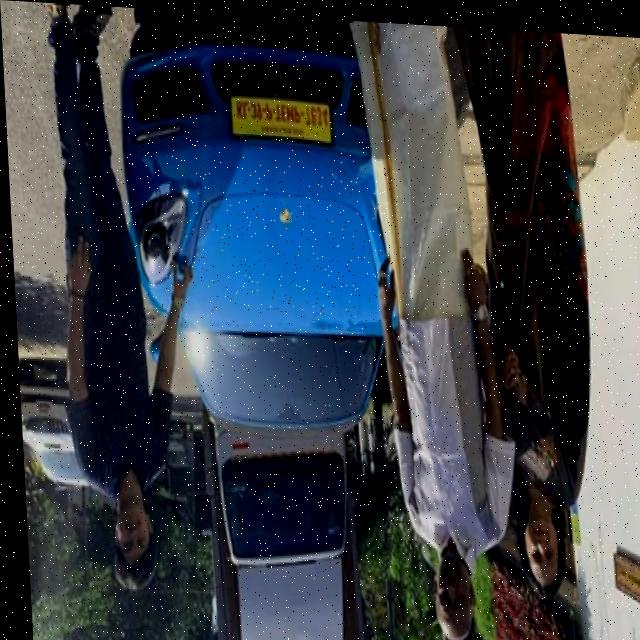plate: (229, 96, 332, 139)
